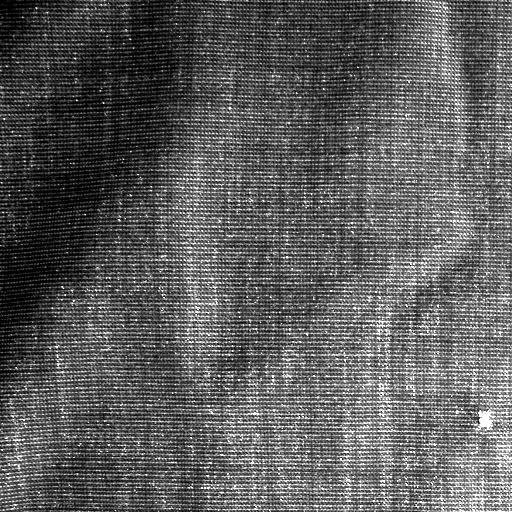fabric_hole: (467, 400, 501, 438)
